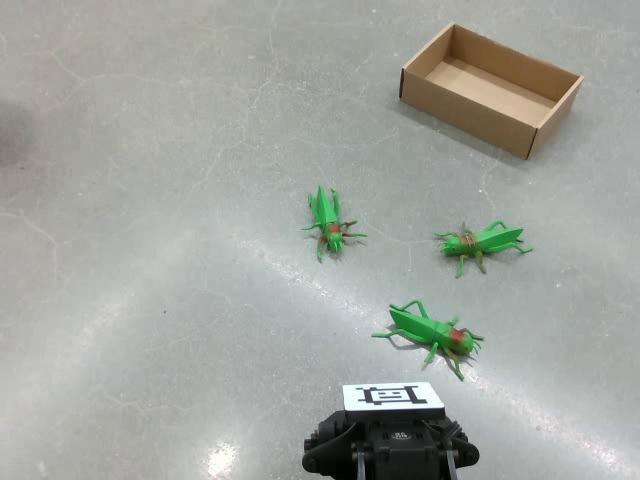box: (398, 21, 584, 160)
grasshopper: (370, 298, 484, 381), (432, 219, 533, 278), (300, 183, 368, 263)
